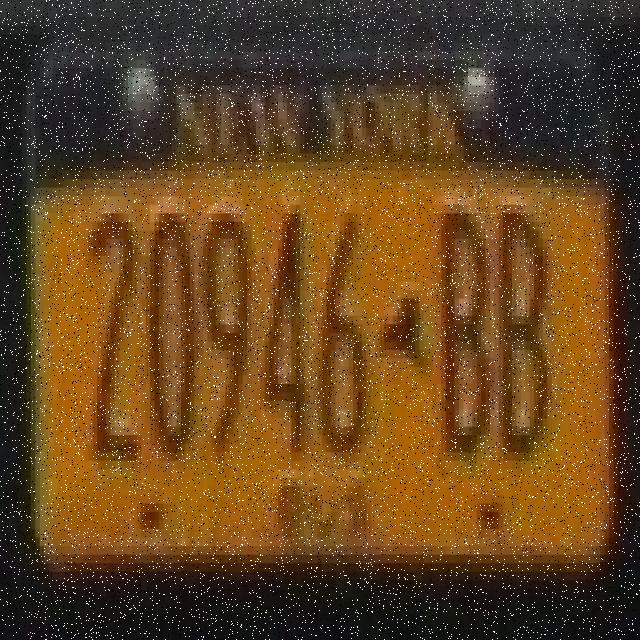licenseplate: (11, 18, 632, 608)
